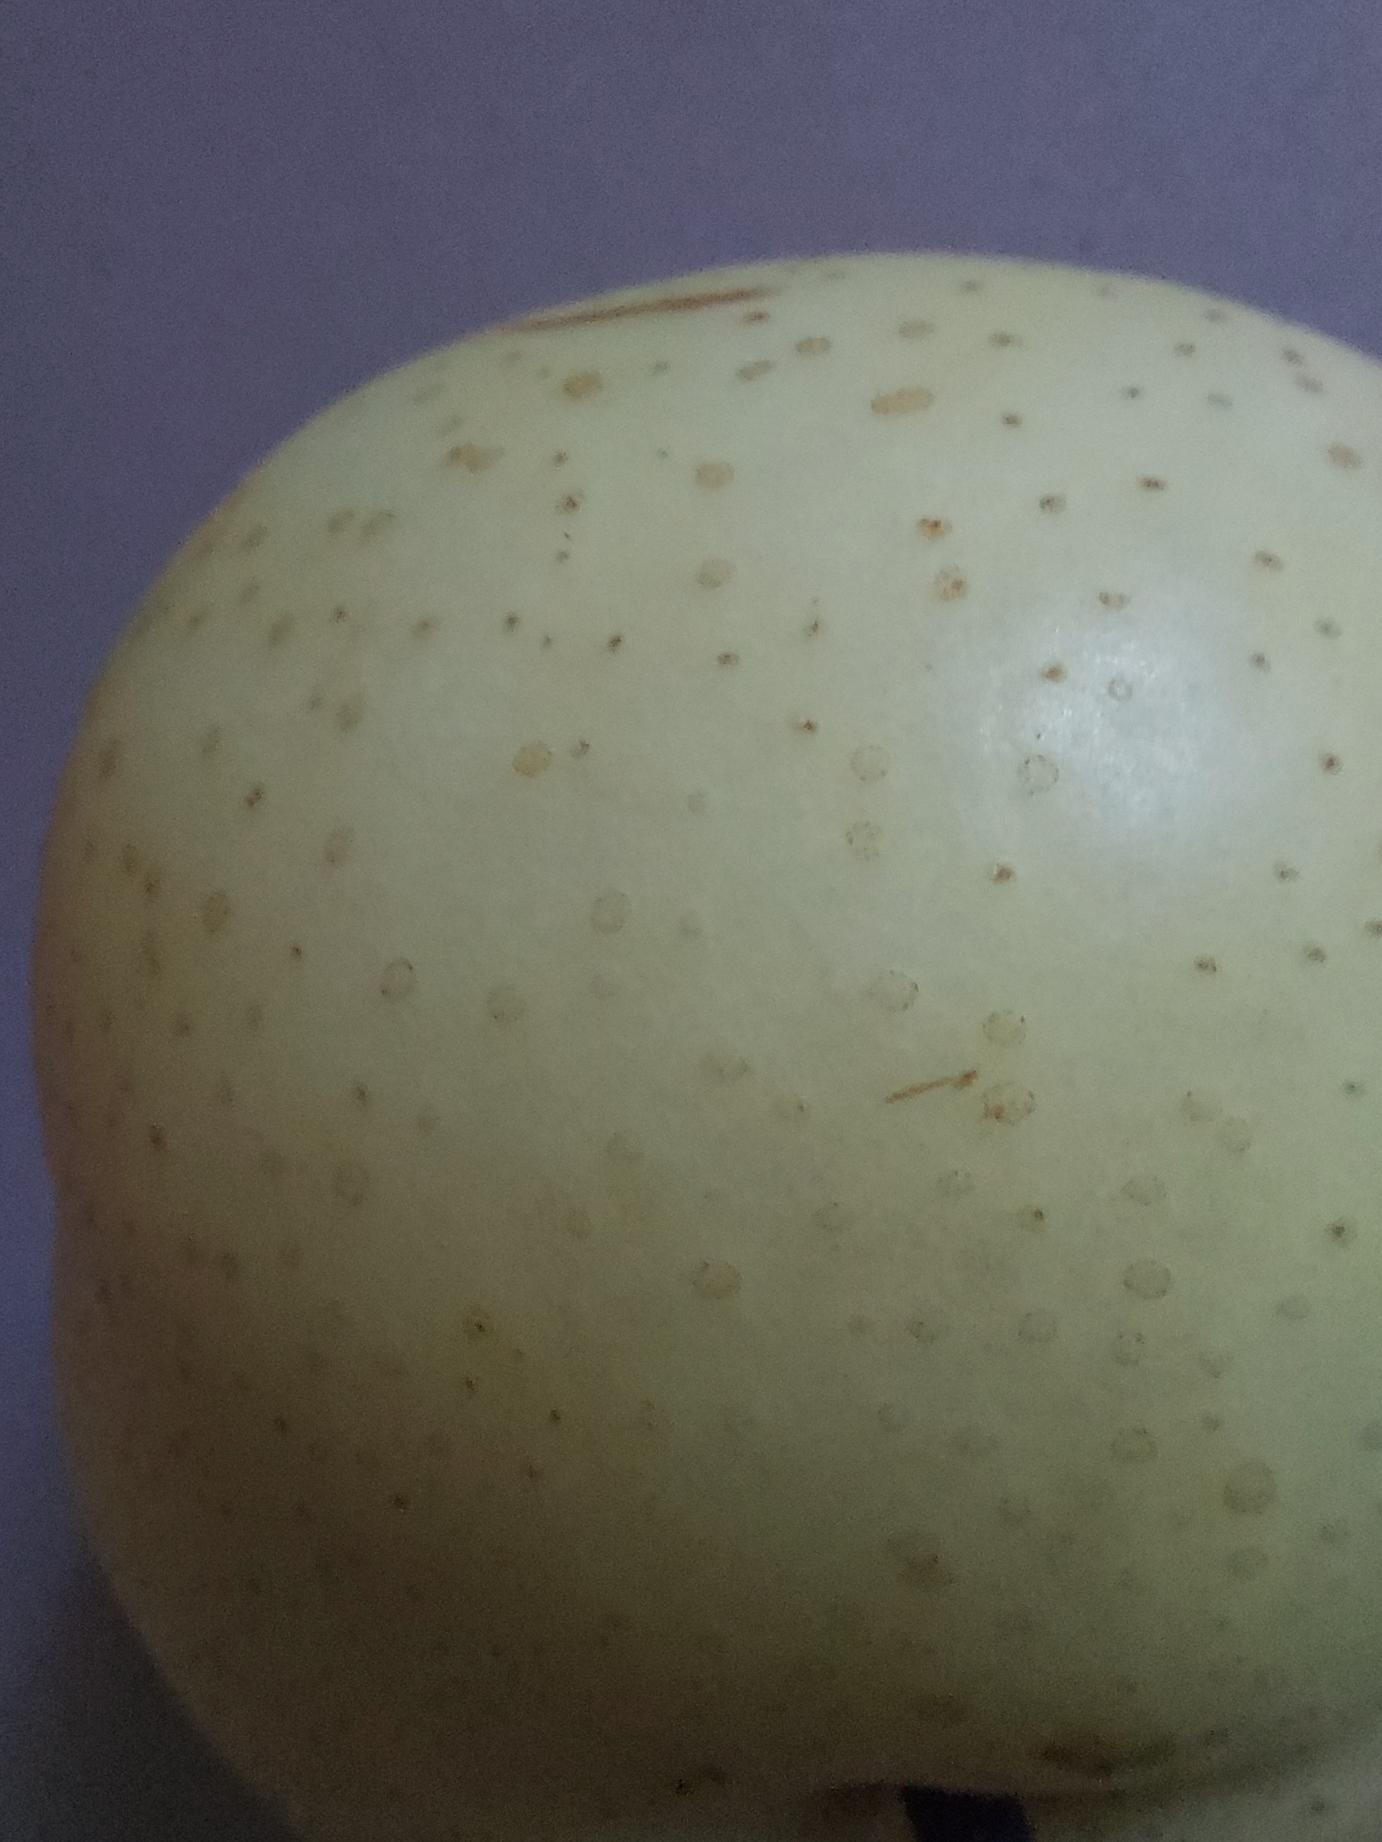Good Pear: (0, 184, 1382, 1842)
